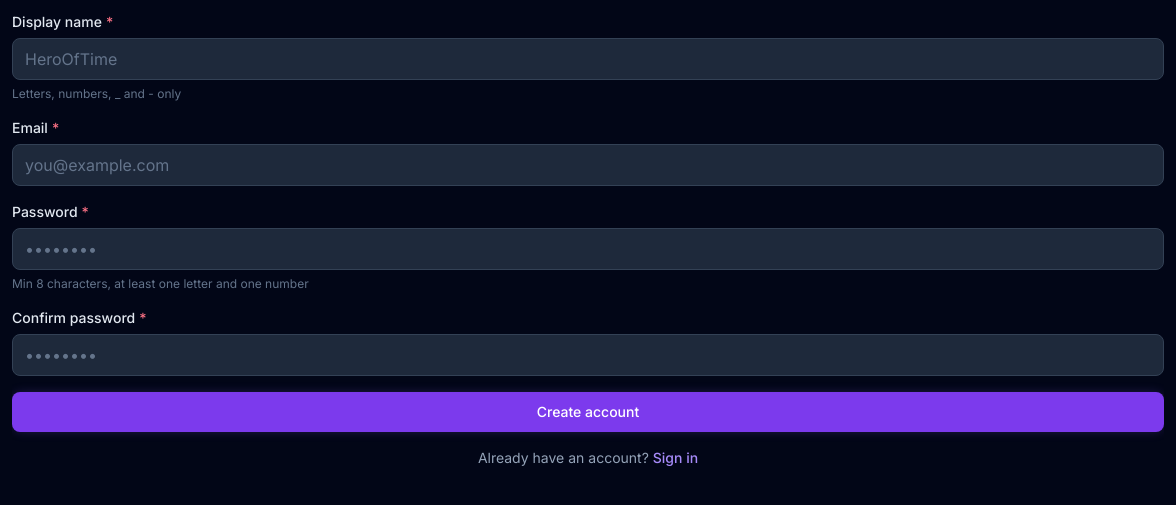
Scenario: RegisterForm › shows "Passwords do not match" when password and confirm_password differ
Step 1. Type "Hero123" into the field labelled "Display name*" → x=588, y=59, box [12,38,1164,80]
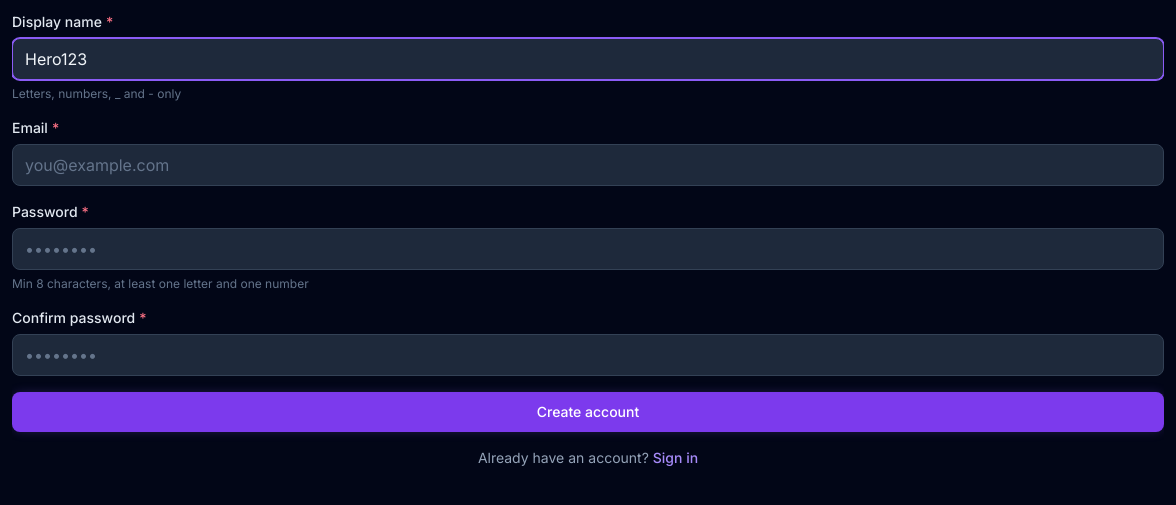
Step 2. Type "hero@example.com" into the field labelled "Email*" → x=588, y=165, box [12,144,1164,186]
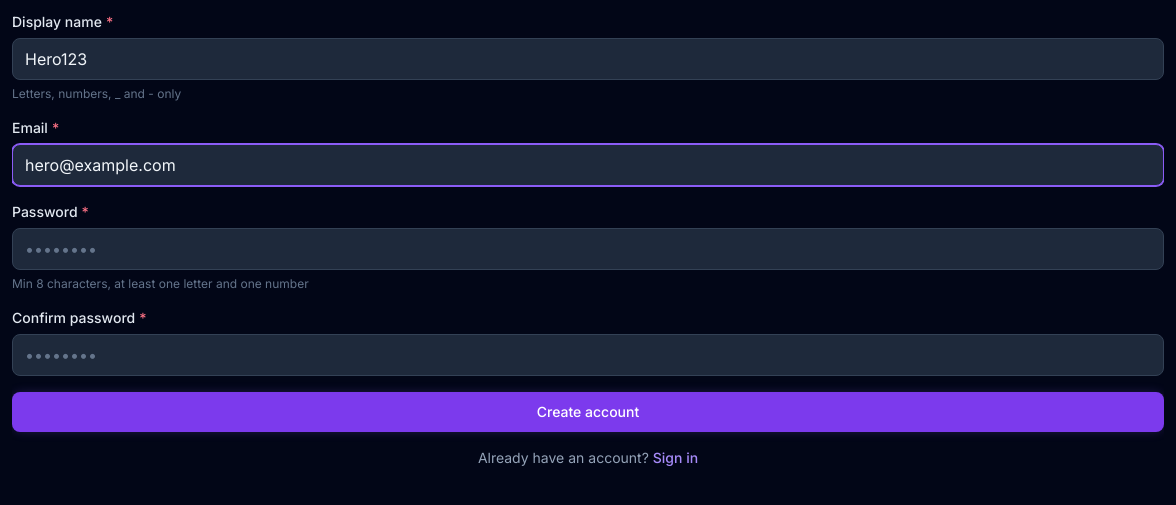
// Use getAllByLabelText and pick the first (Password) vs Confirm password
Step 3. Type "Password1" into the password field labelled "Password*" → x=588, y=249, box [12,228,1164,270]
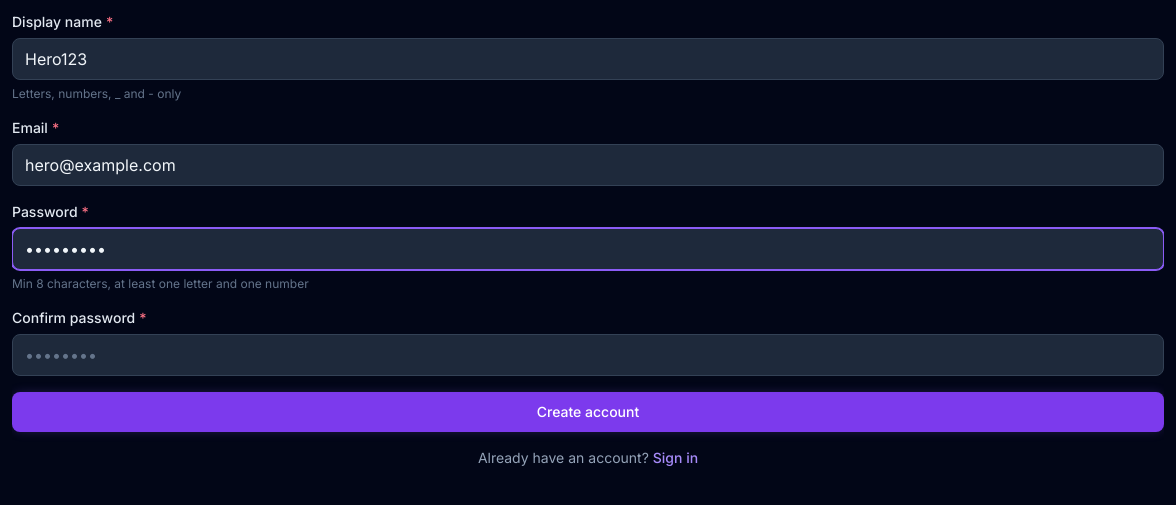
Step 4. Type "Different1" into the password field labelled "Confirm password*" → x=588, y=355, box [12,334,1164,376]
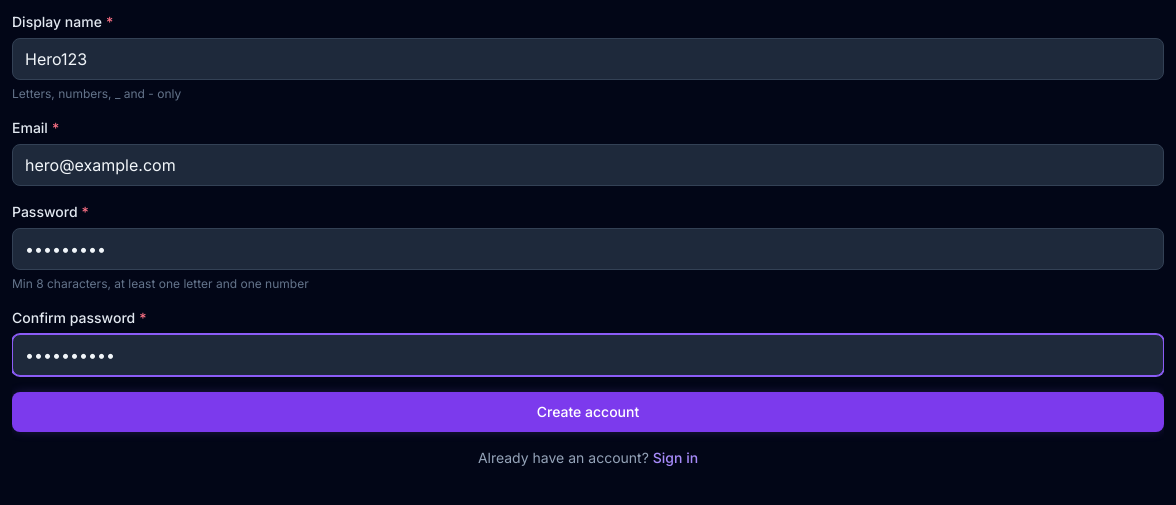
Step 5. Click the button "Create account" → x=588, y=412, box [12,392,1164,432]
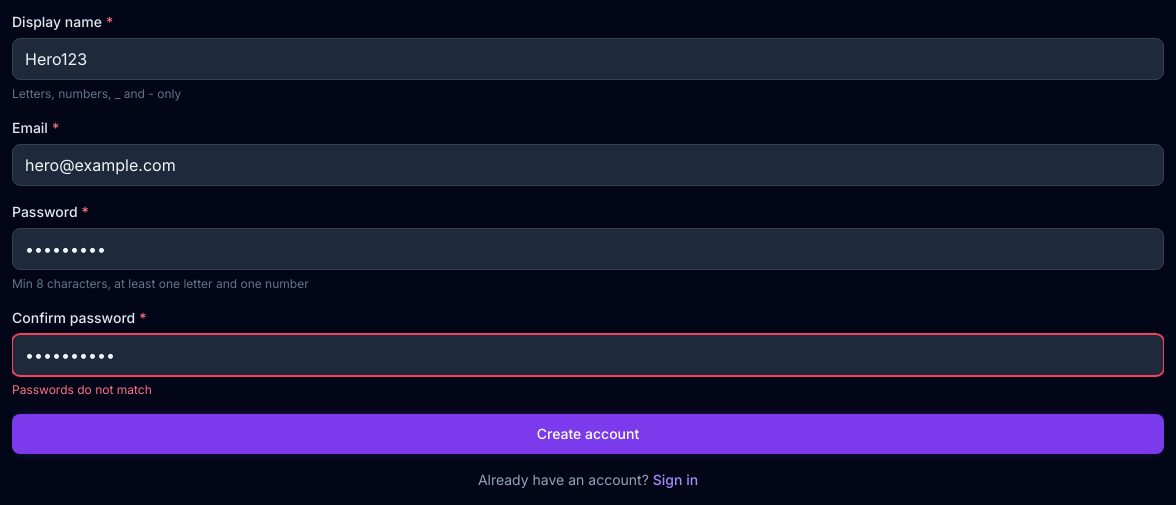
Expected: the text "Passwords do not match" is shown, [12,382,152,397]
